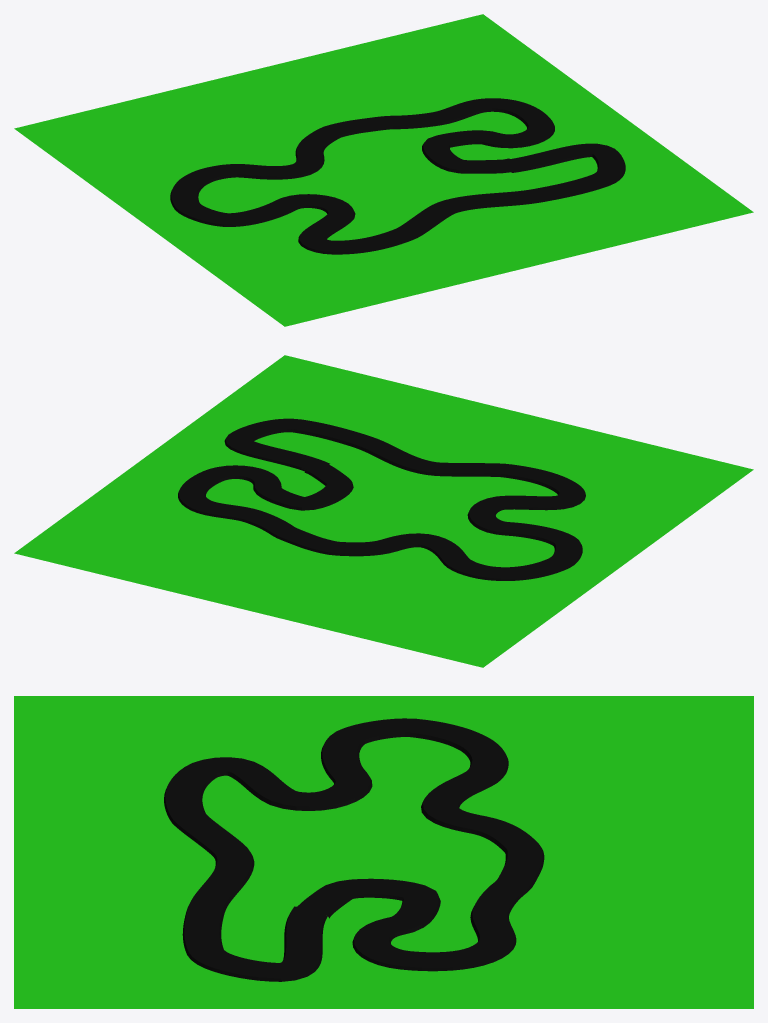
File: track.obj
3 views of the same model, one above another, from view 1: azimuth 30°, elevation 25°; view 2: azimuth 150°, elevation 25°; view 3: azimuth 270°, elevation 25° (orthographic). The views are drawn at different scales.
Visible parts, largest first — view 1: Plane.001, Plane; view 2: Plane.001, Plane; view 3: Plane.001, Plane.
Part boxes in pixels (x1=…): Plane.001: x1=14, y1=14, x2=753, y2=326; Plane: x1=170, y1=98, x2=625, y2=254; Plane.001: x1=14, y1=355, x2=753, y2=667; Plane: x1=178, y1=418, x2=585, y2=580; Plane.001: x1=14, y1=696, x2=753, y2=1008; Plane: x1=164, y1=718, x2=544, y2=981.
Bounding box in the file's own units: 38.83 × 0.2713 × 38.83.
